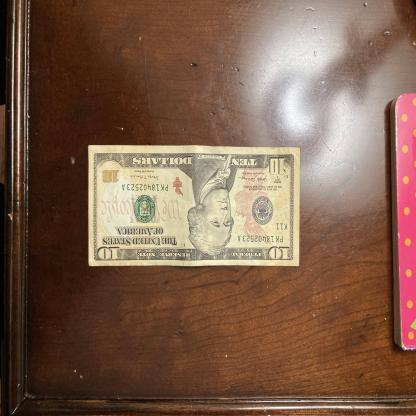ten-front: (88, 145, 300, 266)
